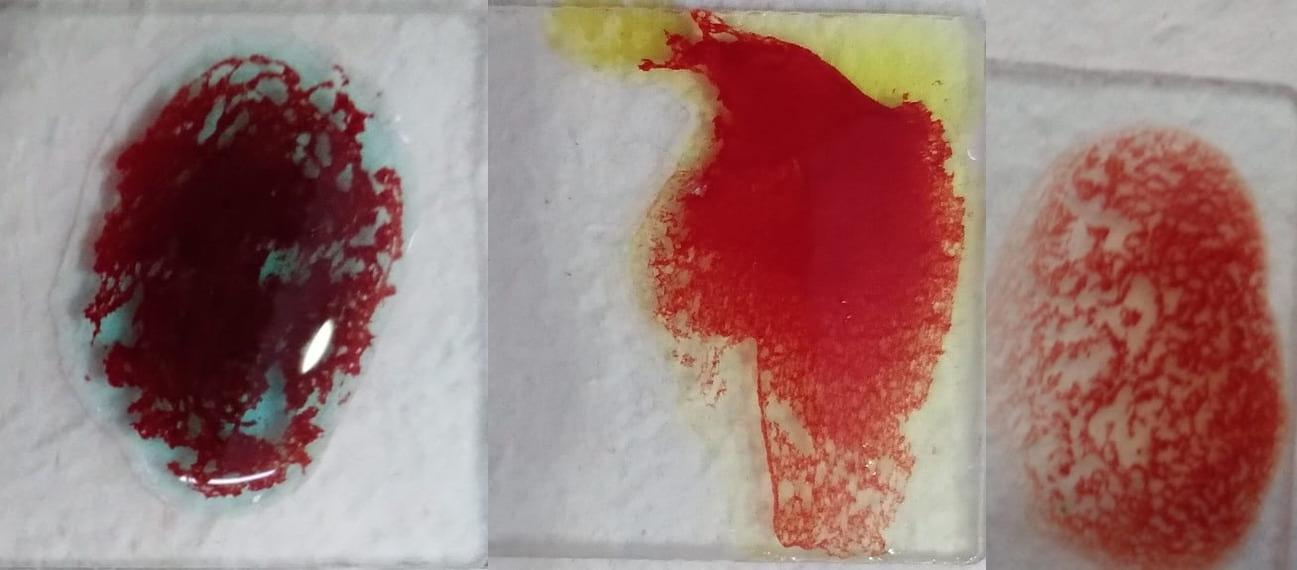A: (74, 37, 407, 511)
B: (633, 16, 955, 556)
D: (1030, 130, 1285, 569)
